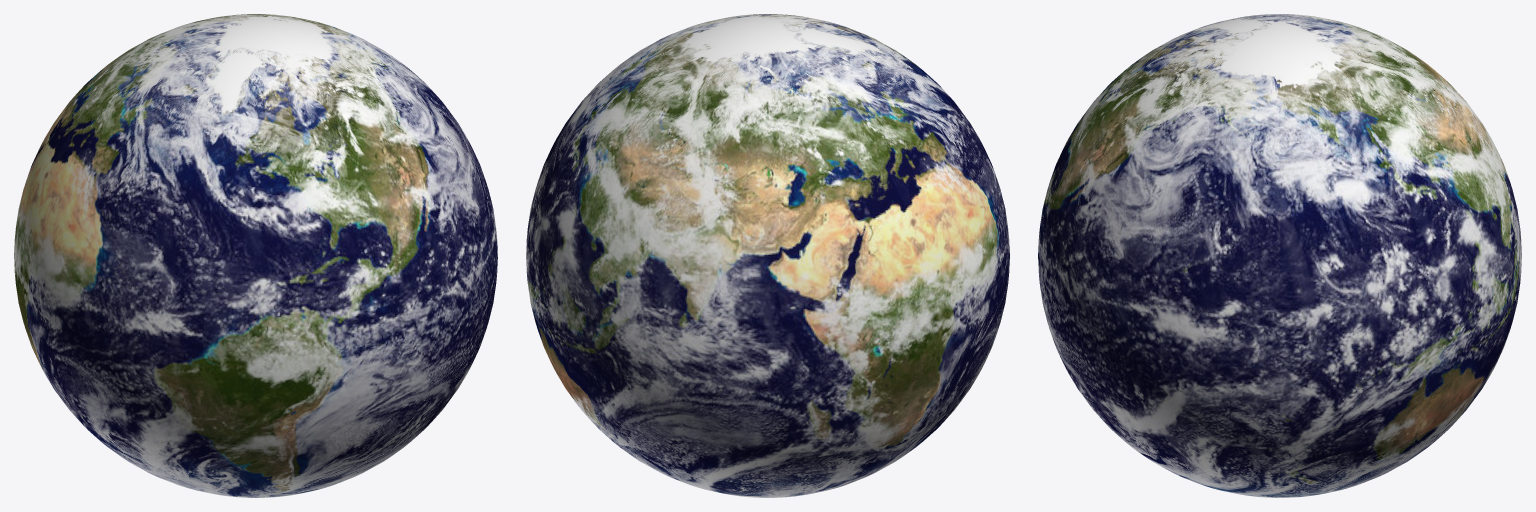
The model's file is globe.obj.
3 renders of one model, left to right at view 1: azimuth 30°, elevation 25°; view 2: azimuth 150°, elevation 25°; view 3: azimuth 270°, elevation 25°, orthographic.
Size of the model in its own units: 2 by 2 by 2.
1 material, 1 textured.
